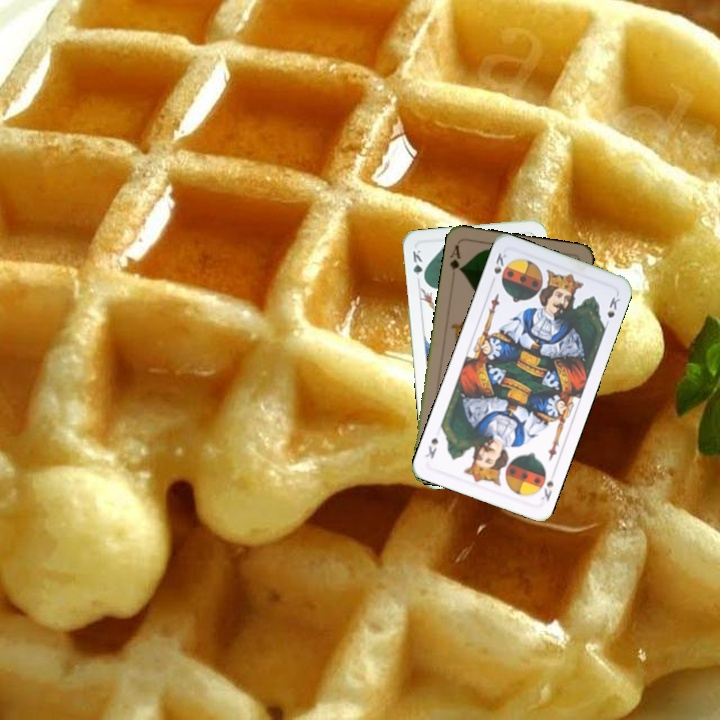GA: (446, 241, 465, 274)
GK: (408, 246, 427, 285)
SK: (490, 248, 510, 276), (536, 477, 556, 504)
